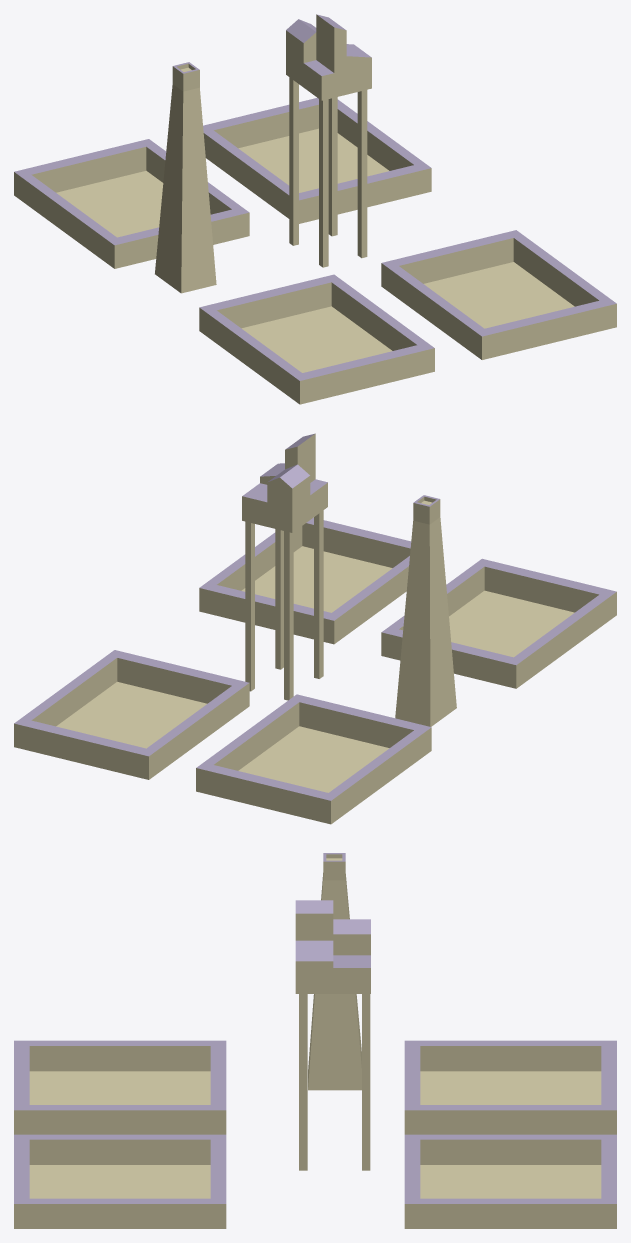
The model's file is outdoor_breeding.glb.
3 views of the same model, one above another, from view 1: azimuth 30°, elevation 25°; view 2: azimuth 150°, elevation 25°; view 3: azimuth 270°, elevation 25° (orthographic). The views are drawn at different scales.
Visible parts, largest first — view 1: Cylinder.003; view 2: Cylinder.003; view 3: Cylinder.003.
Part boxes in pixels (box(x1,y1,x2,y2)): Cylinder.003: box(14, 14, 616, 404); Cylinder.003: box(14, 433, 616, 824); Cylinder.003: box(14, 853, 616, 1228).
Size of the model in its own units: 1.77 by 1.28 by 2.77.
